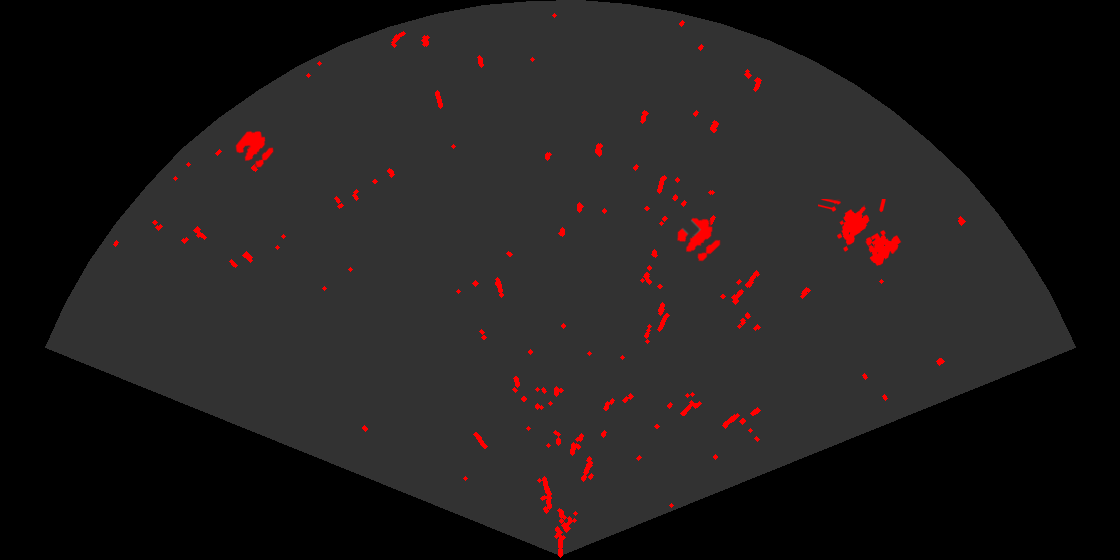ball: (675, 216, 722, 263), (234, 129, 275, 169)
cage: (818, 199, 903, 267)
